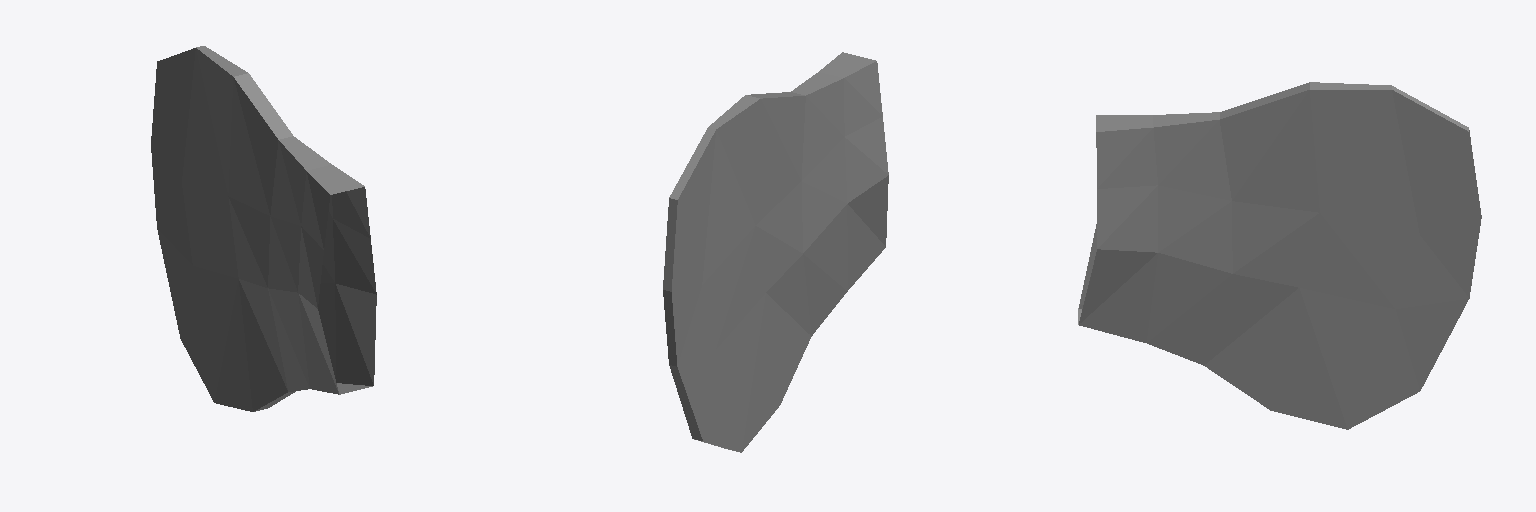
File: Cola_Pez.obj
3 renders of one model, left to right at view 1: azimuth 30°, elevation 25°; view 2: azimuth 150°, elevation 25°; view 3: azimuth 270°, elevation 25°, orthographic.
Visible parts, largest first — view 1: Cola_Pez_TropicalFish12.001; view 2: Cola_Pez_TropicalFish12.001; view 3: Cola_Pez_TropicalFish12.001.
Boxes of the visible parts, x1=… form: Cola_Pez_TropicalFish12.001: x1=151, y1=46, x2=376, y2=411; Cola_Pez_TropicalFish12.001: x1=663, y1=52, x2=888, y2=452; Cola_Pez_TropicalFish12.001: x1=1078, y1=82, x2=1481, y2=429.
Size of the model in its own units: 0.1709 by 0.9436 by 1.01.